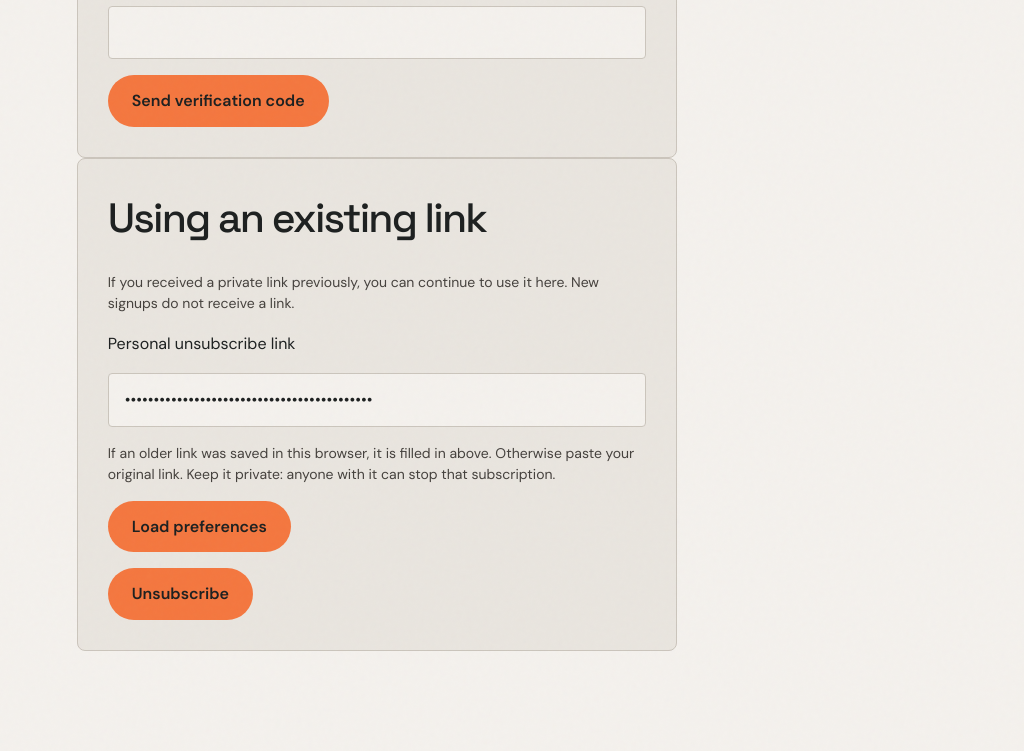
Test: hides another link's details while loading the newly verified account
This screenshot has width=1024, height=751.
(page scrolled)
Click the button "Load preferences". click: (199, 526)
box: top-left (108, 501), bottom-right (291, 552)
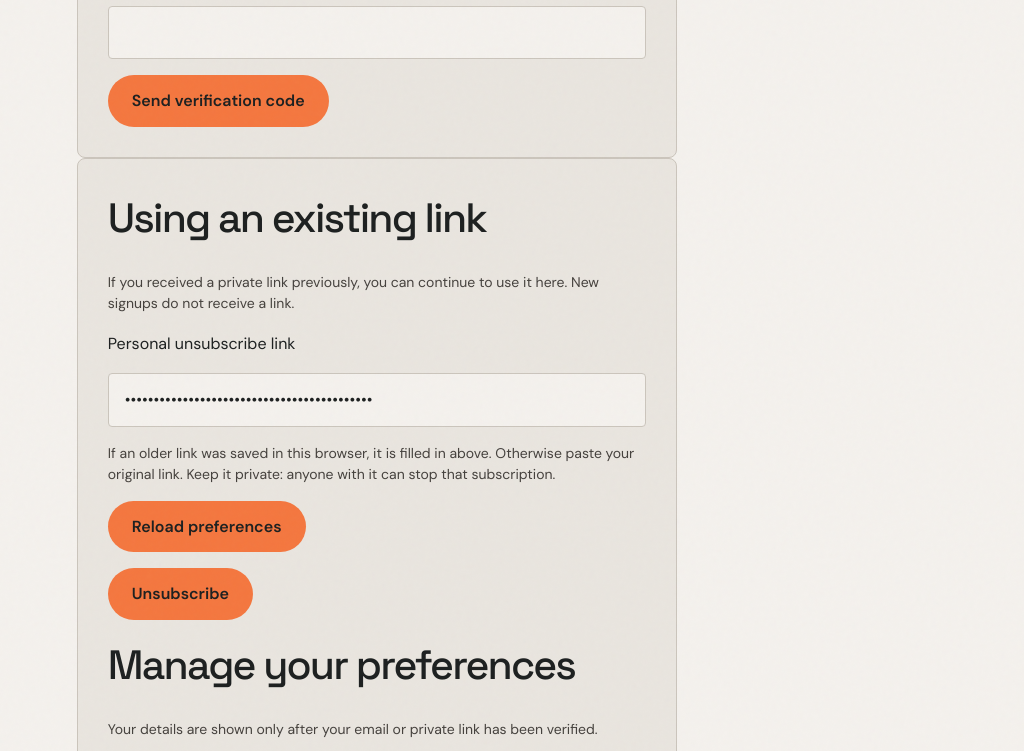
Type "alex@example.com" into the field labelled "Email address". click: (377, 32)
box: top-left (108, 6), bottom-right (646, 59)
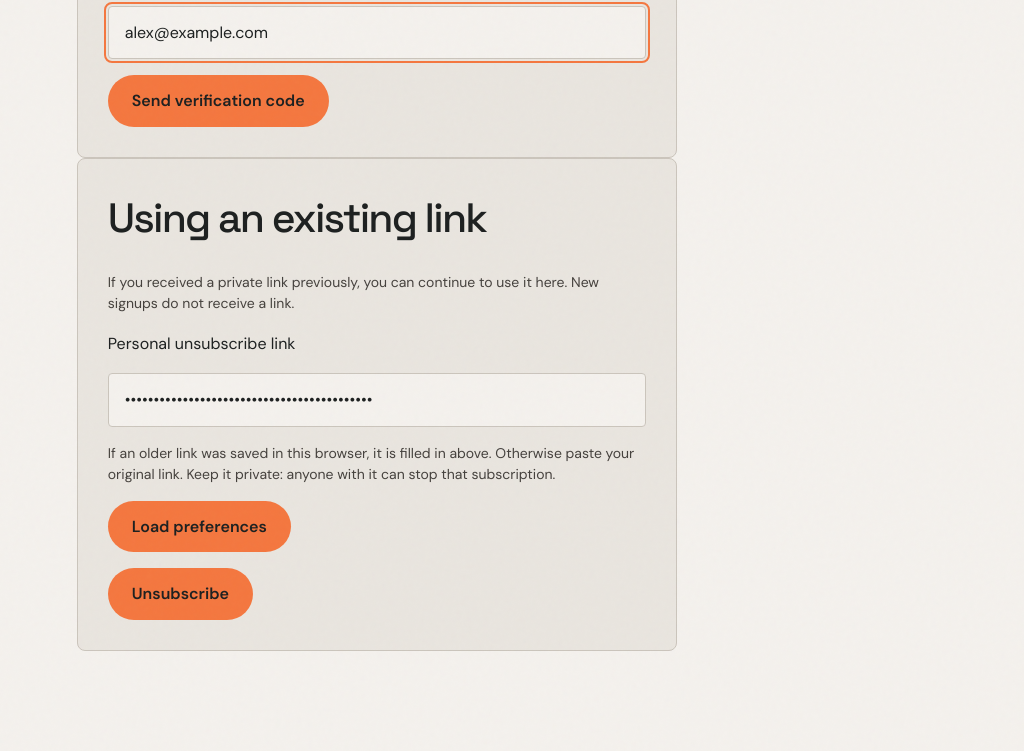
Click the button "Send verification code". click: (218, 101)
box: top-left (108, 75), bottom-right (329, 127)
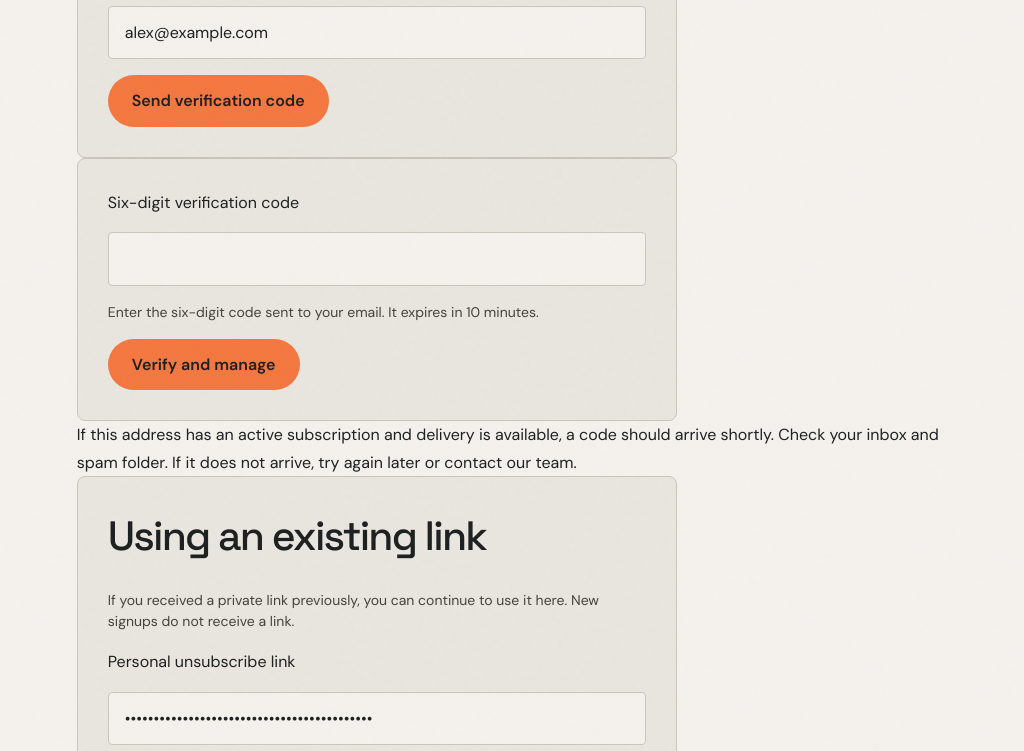
Type "123456" into the field labelled "Six-digit verification code". click: (377, 259)
box: top-left (108, 232), bottom-right (646, 286)
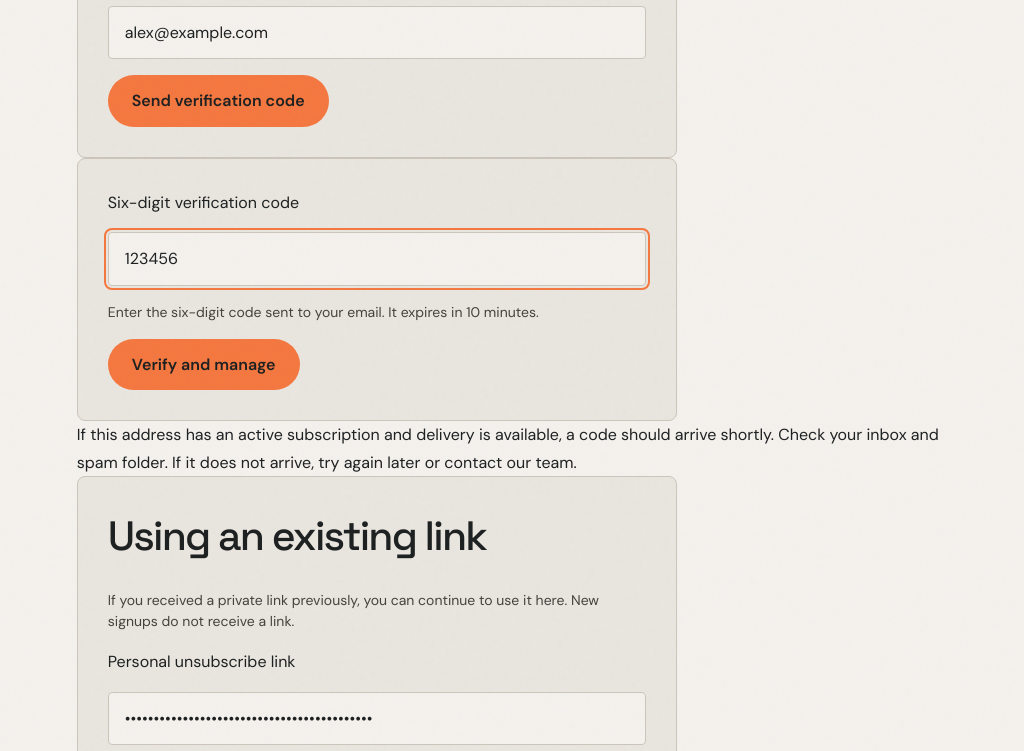
Click the button "Verify and manage". click: (204, 364)
box: top-left (108, 339), bottom-right (300, 390)
(page scrolled)
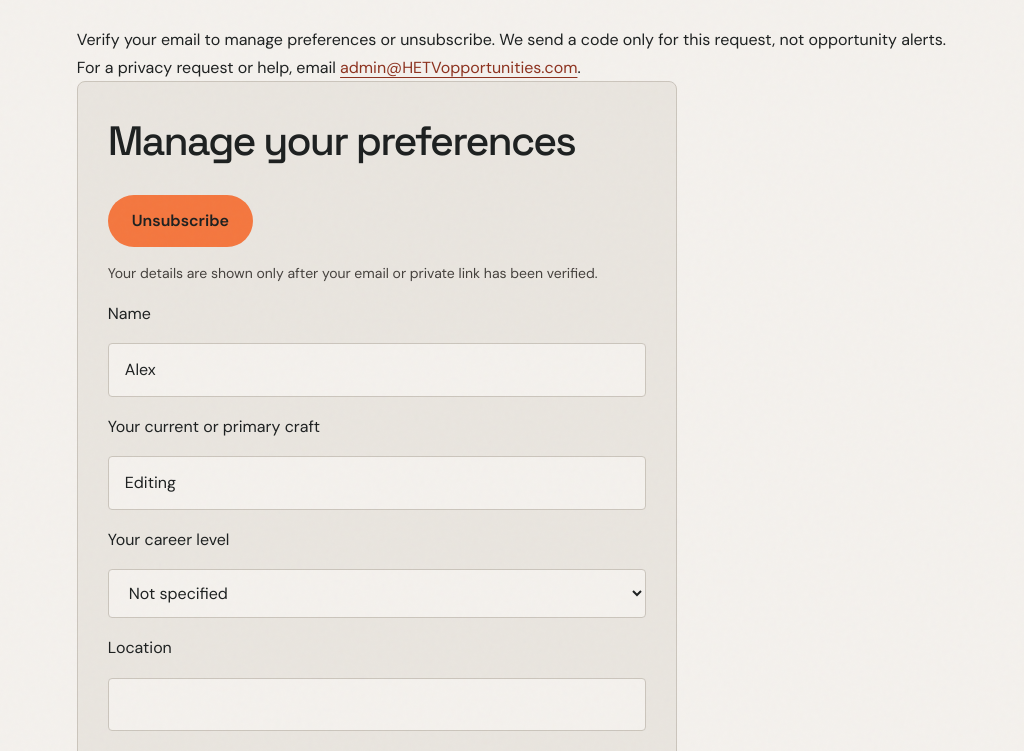
Check: the field showing "Alex" is shown, box top-left (108, 343), bottom-right (646, 397)
